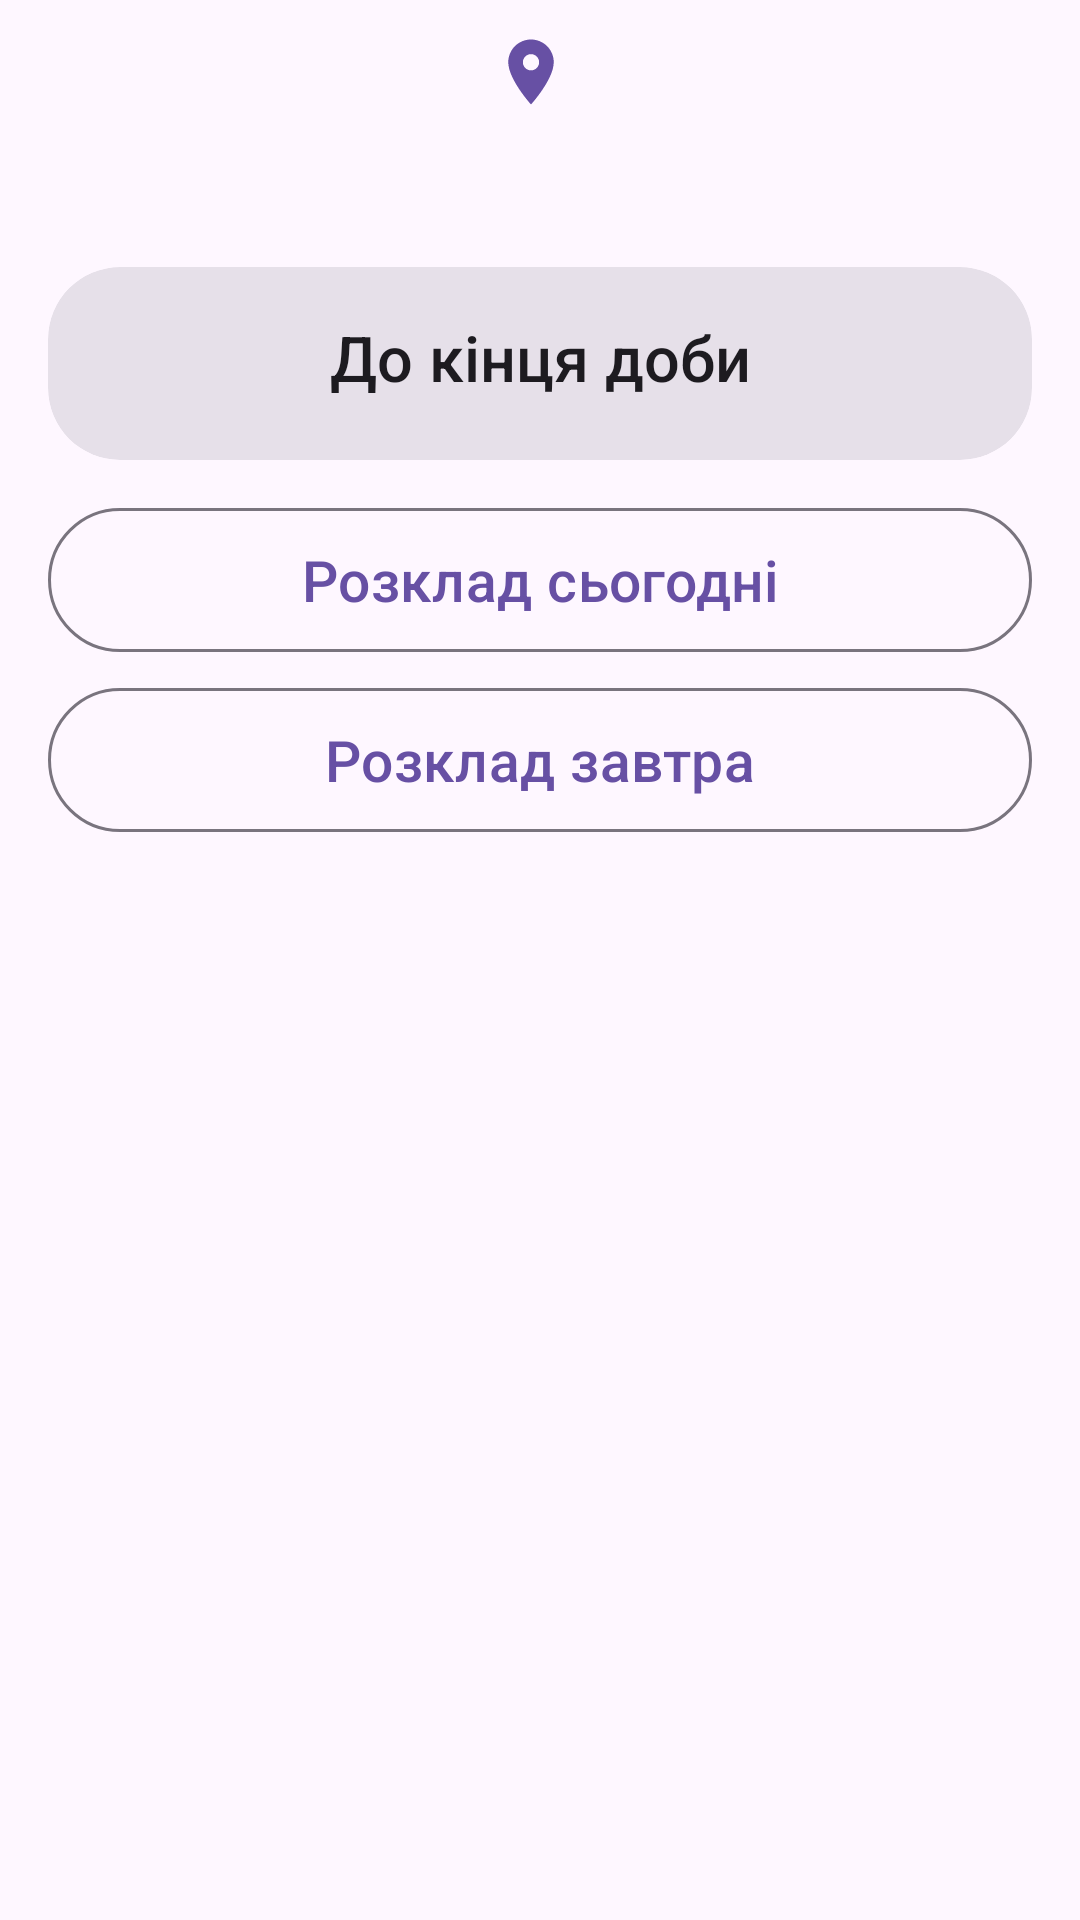

Icon click points for this 1080×1920 phone screenshot, format [x,y]:
place: [531,71]
